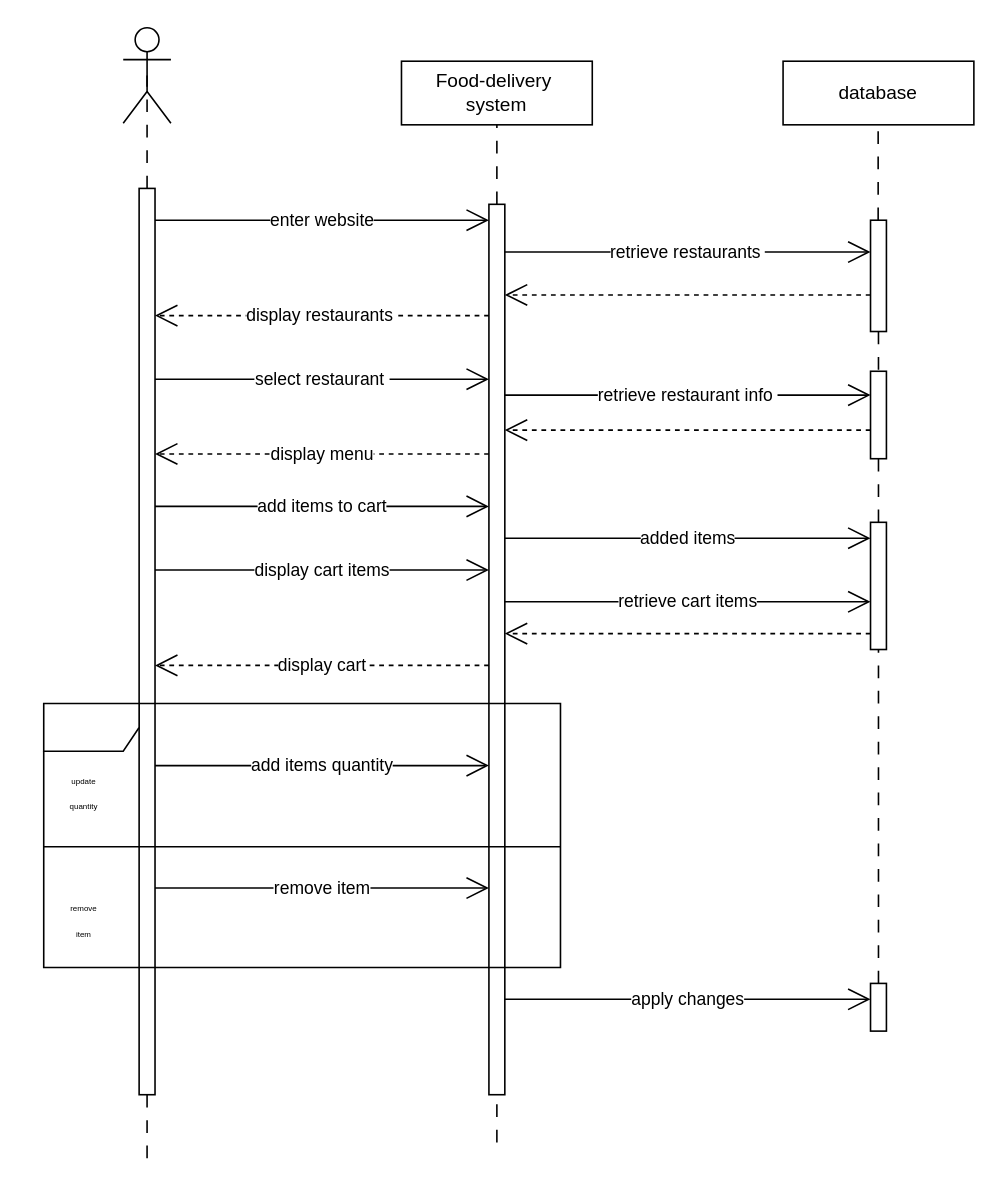
Image size: 1002x1188. Some labels were removed from this diagram. Each missing label, with the box of its shape:
Customer: (122, 26, 171, 123)
opt: (42, 702, 560, 968)
